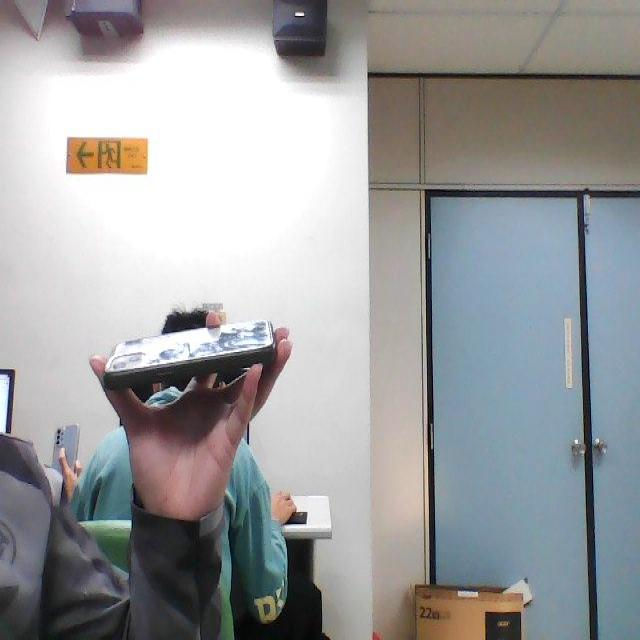Smartphone: (94, 304, 290, 397)
